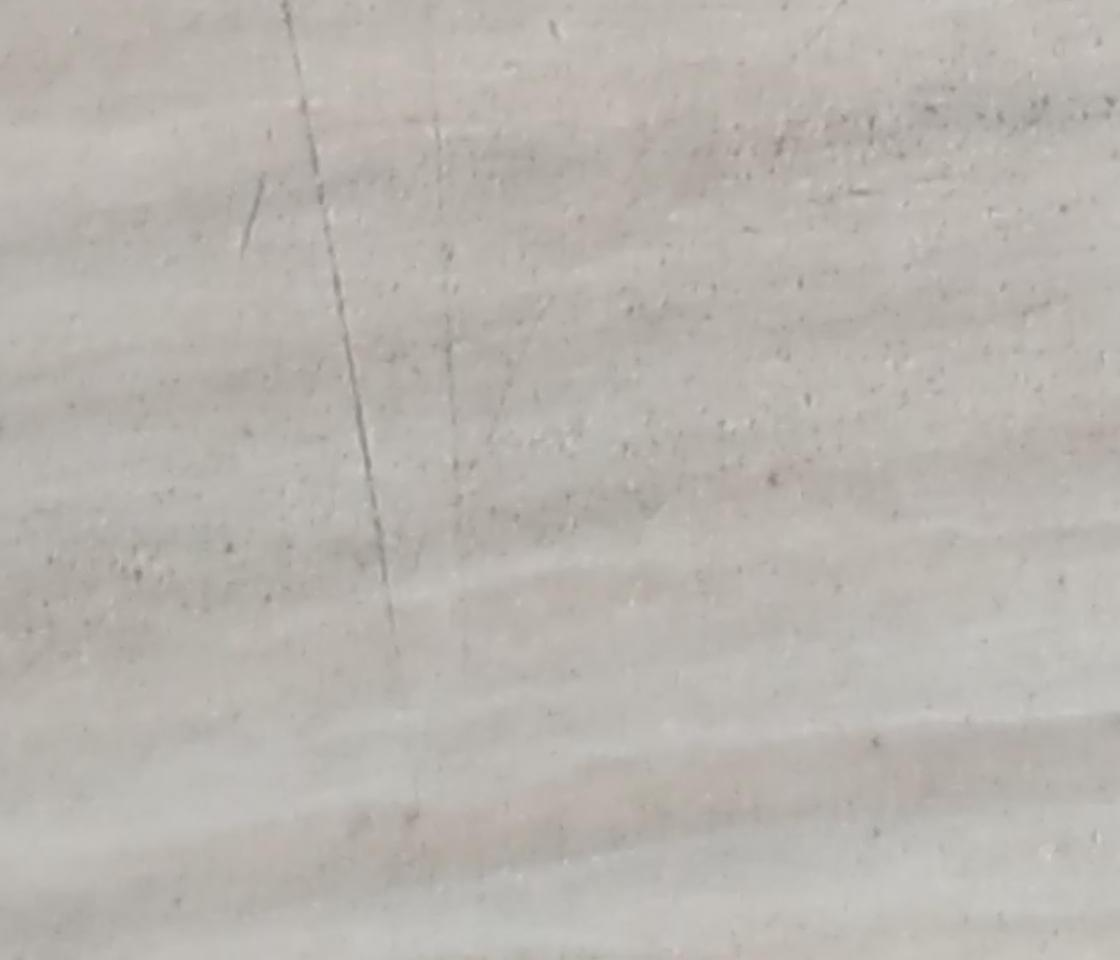scratch: (235, 179, 273, 257)
